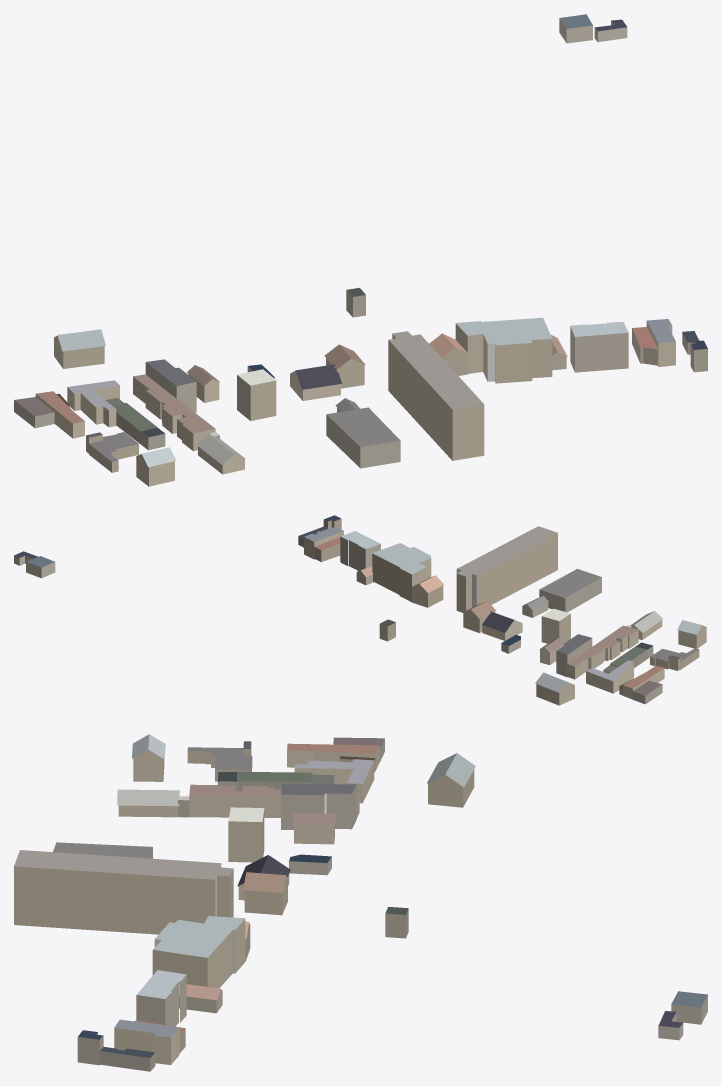
3 renders of one model, top to bottom at view 1: azimuth 30°, elevation 25°; view 2: azimuth 150°, elevation 25°; view 3: azimuth 270°, elevation 25°, orthographic. The views are drawn at different scales.
Visible parts, largest first — view 1: tuile; view 2: tuile; view 3: tuile.
Boxes of the visible parts, x1,y1,x2,y2 form: tuile: (14, 14, 707, 486); tuile: (14, 515, 706, 705); tuile: (14, 734, 707, 1071).
Size of the model in its own units: 246 by 39.75 by 175.
